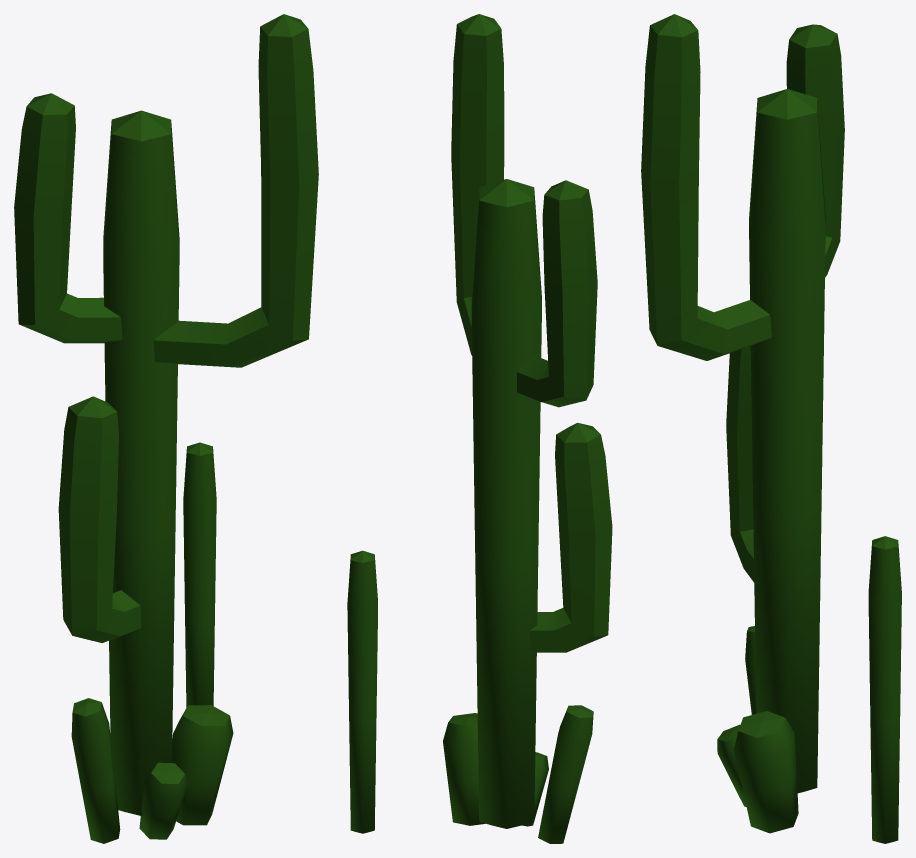
The model's file is SM_CactusMedium.fbx.
3 views of the same model, side by side, from view 1: azimuth 30°, elevation 25°; view 2: azimuth 150°, elevation 25°; view 3: azimuth 270°, elevation 25° (orthographic). The views are drawn at different scales.
Parts seen in each view (by area): view 1: SM_CactusMedium; view 2: SM_CactusMedium; view 3: SM_CactusMedium.
Part boxes in pixels (x1,y1,x2,y2): SM_CactusMedium: (14, 14, 318, 843); SM_CactusMedium: (347, 14, 612, 843); SM_CactusMedium: (641, 14, 901, 843).
Size of the model in its own units: 57.81 by 56.07 by 198.
